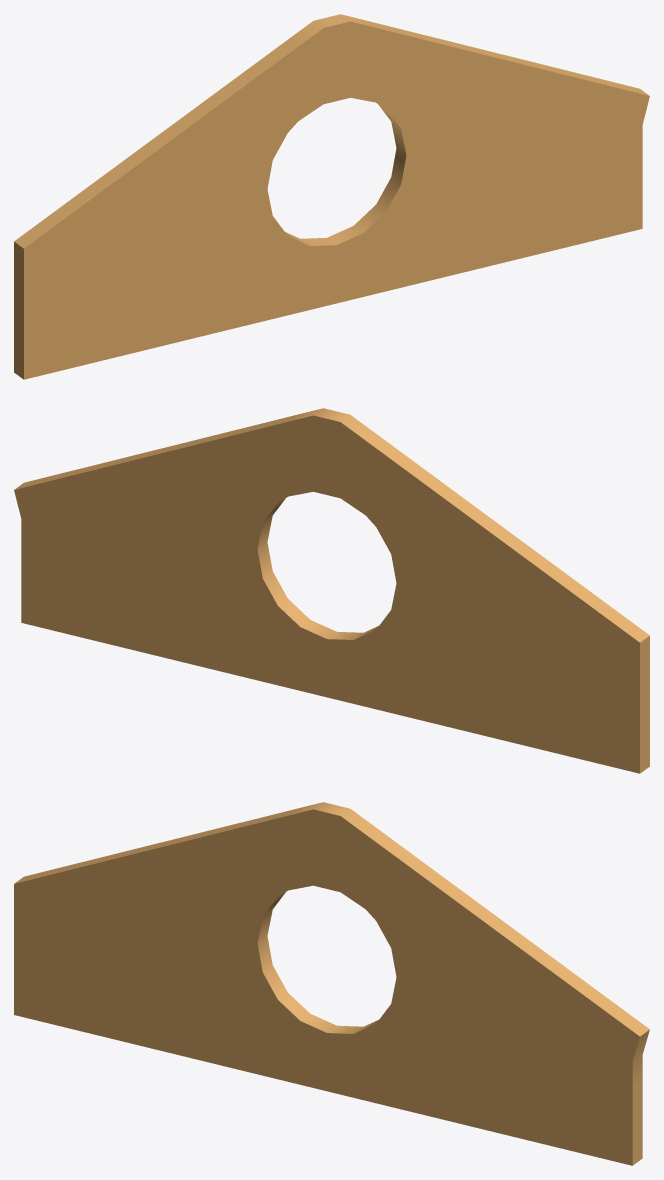
Rendered from SP_House06_SideWall02.fbx.
3 views of the same model, one above another, from view 1: azimuth 30°, elevation 25°; view 2: azimuth 150°, elevation 25°; view 3: azimuth 330°, elevation 25° (orthographic).
Parts seen in each view (by area): view 1: SP_House06_SideWall02; view 2: SP_House06_SideWall02; view 3: SP_House06_SideWall02.
Part boxes in pixels (x1=…): SP_House06_SideWall02: x1=14, y1=14, x2=649, y2=379; SP_House06_SideWall02: x1=14, y1=408, x2=649, y2=773; SP_House06_SideWall02: x1=14, y1=802, x2=649, y2=1165.
Size of the model in its own units: 7.21 by 3.07 by 0.1989.
